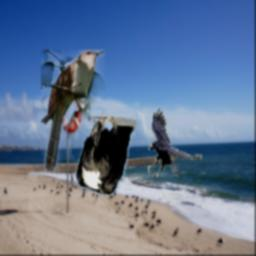Crow: (76, 114, 137, 197), (148, 108, 202, 177)
Cuckoo: (41, 50, 105, 172)
